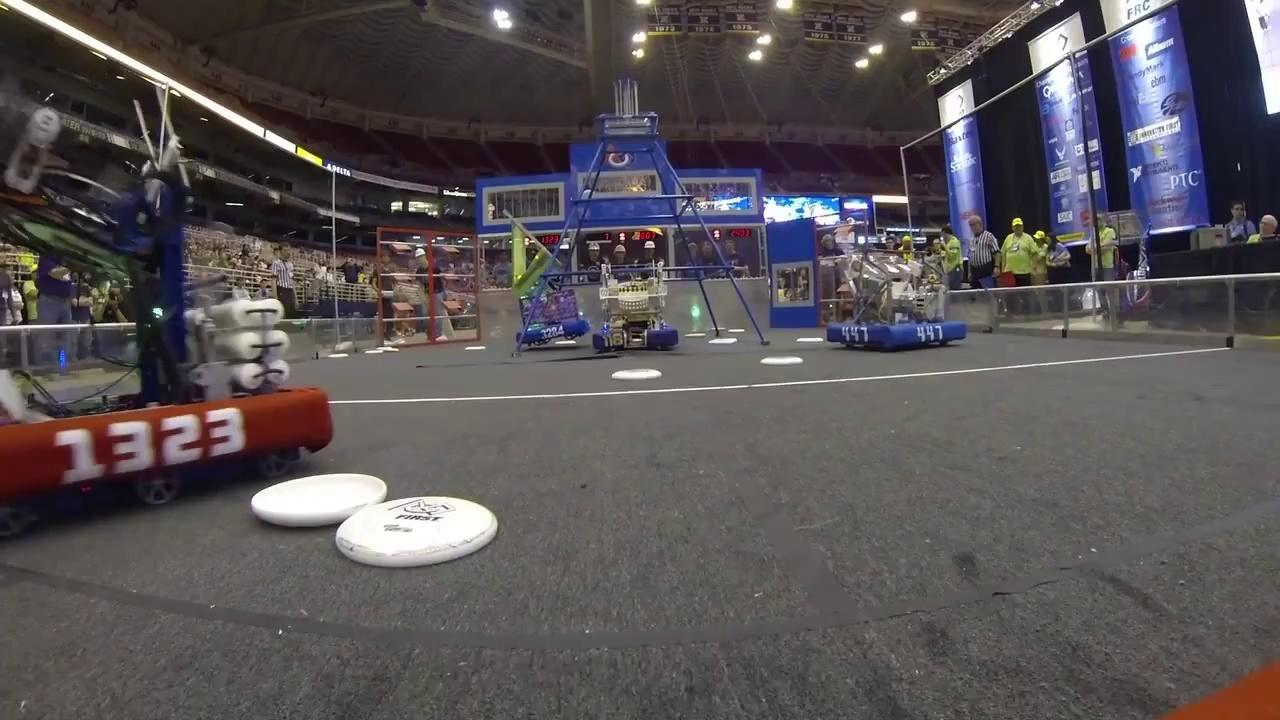robot: (0, 96, 342, 543), (818, 241, 972, 353), (498, 207, 586, 347), (589, 257, 682, 356)
